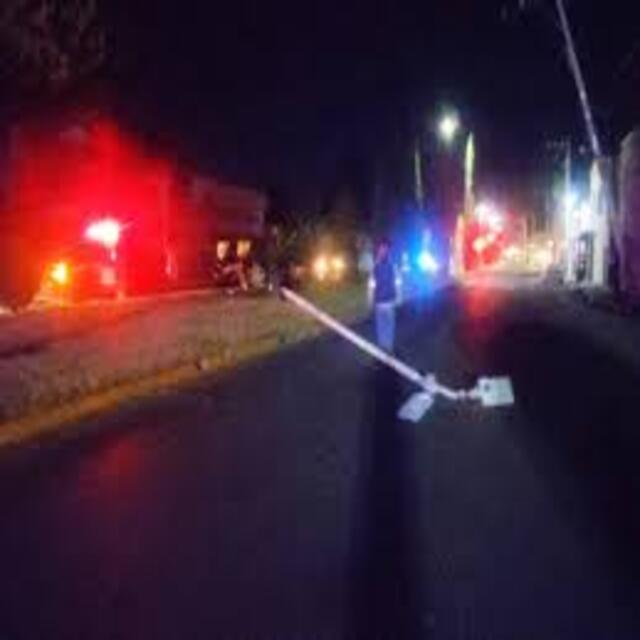Inclined Pole: (281, 285, 523, 426)
